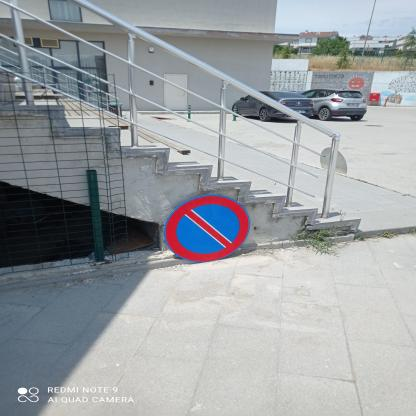No Waiting: (166, 197, 251, 263)
